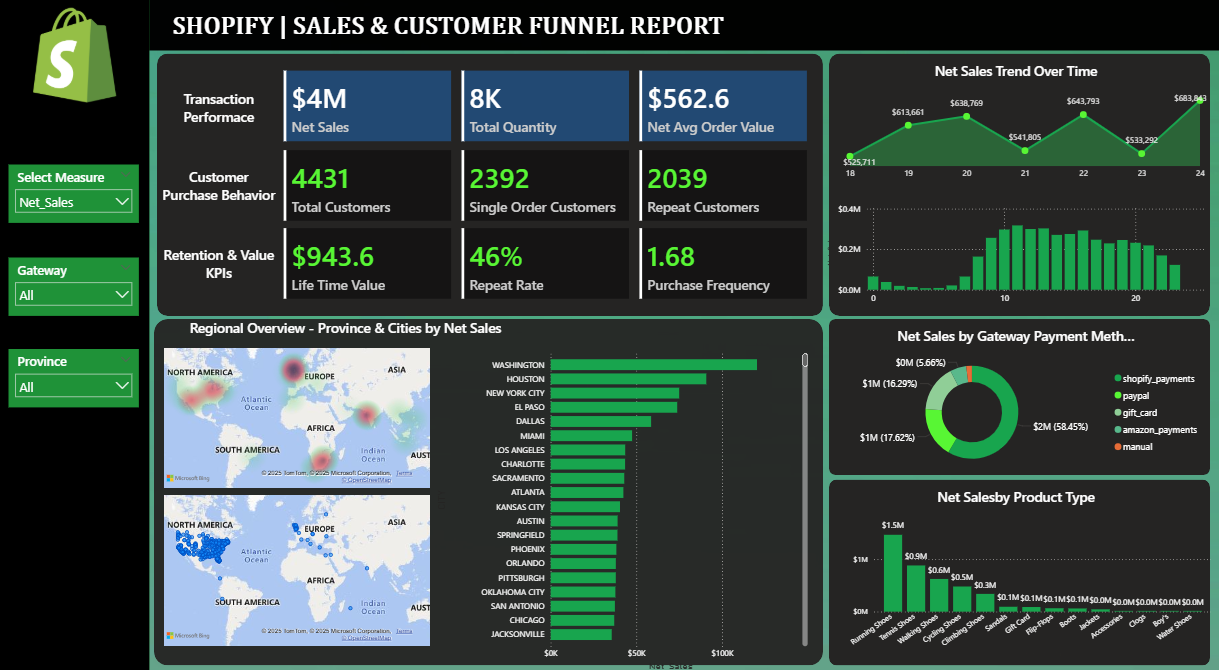

What the dashboard file says about the page in this screenshot:
{"tool":"powerbi","page":{"name":"Shopify_Analysis","canvas":[1800,1000],"ordinal":0},"visuals":[{"type":"shape","box":[1223.9,713.6,561.1,273.9],"z":0},{"type":"shape","box":[1223.9,477.2,561.1,229.8],"z":1000},{"type":"shape","box":[2.2,0,1798.3,81.7],"z":2000},{"type":"shape","box":[229.8,477.2,985.3,510.3],"z":3000},{"type":"shape","box":[234.2,86.2,980.9,386.6],"z":4000},{"type":"shape","box":[2.2,0,220.9,1000.8],"z":5000},{"type":"cardVisual","fields":{"Data":["shopify_sales.Net_Sales","shopify_sales.Total_Quantity","shopify_sales.Net_Avg_Order_Value"]},"box":[416.1,106,782.1,114.9],"z":6000},{"type":"card","fields":{"Values":["shopify_sales.Transaction_Perf"]},"box":[234.9,106,181.2,114.9],"z":7000},{"type":"cardVisual","fields":{"Data":["shopify_sales.Total_Customers","shopify_sales.Single_Order_Customers","shopify_sales.Repeat_Customers"]},"box":[416.1,223.1,782.1,114.9],"z":8000},{"type":"card","fields":{"Values":["shopify_sales.Customer Purchase Behavior"]},"box":[234.9,220.9,181.2,117.1],"z":9000},{"type":"cardVisual","fields":{"Data":["shopify_sales.Life Time Value","shopify_sales.Repeat Rate","shopify_sales.Purchase Frequency"]},"box":[416.1,338,782.1,114.9],"z":10000},{"type":"card","fields":{"Values":["shopify_sales.Retention Value"]},"box":[234.9,335.8,181.2,117.1],"z":11000},{"type":"map","fields":{"Category":["shopify_sales.Billing Address Province"],"Size":["shopify_sales.Net_Sales"]},"box":[238.6,514.7,402.1,216.5],"z":12000},{"type":"slicer","fields":{"Values":["Select Measure.Select Measure"]},"box":[15.5,249.6,192.2,86.2],"z":13000},{"type":"map","fields":{"Category":["shopify_sales.CITY"]},"box":[238.6,730.5,402.1,232],"z":14000},{"type":"clusteredBarChart","fields":{"Category":["shopify_sales.CITY"],"Y":["shopify_sales.Net_Sales"]},"box":[640.7,514.7,556.7,486],"z":15000},{"type":"card","fields":{"Values":["shopify_sales.Map Title"]},"box":[229.8,461,563.3,59.6],"z":16000},{"type":"shape","box":[1223.9,86.2,561.1,386.6],"z":17000},{"type":"textbox","box":[252.6,19.9,877,70.7],"z":18000},{"type":"areaChart","fields":{"Category":["shopify_sales.Invoice Date.Variation.Date Hierarchy.Day"],"Y":["shopify_sales.Net_Sales"]},"box":[1239.4,132.6,545.7,148],"z":19000},{"type":"columnChart","fields":{"Category":["shopify_sales.Hour"],"Y":["shopify_sales.Net_Sales"]},"box":[1215.1,300.4,570,172.3],"z":20000},{"type":"card","fields":{"Values":["shopify_sales.Trend Title"]},"box":[1316.7,86.2,364.5,53],"z":21000},{"type":"donutChart","fields":{"Category":["shopify_sales.Gateway"],"Y":["shopify_sales.Net_Sales"]},"box":[1219.5,521.4,561.1,185.6],"z":22000},{"type":"card","fields":{"Values":["shopify_sales.Gateway Title"]},"box":[1316.7,477.2,364.5,53],"z":23000},{"type":"columnChart","fields":{"Category":["shopify_sales.Product Type"],"Y":["shopify_sales.Net_Sales"]},"box":[1223.9,760,567.8,220.9],"z":24000},{"type":"card","fields":{"Values":["shopify_sales.Product Title"]},"box":[1316.7,713.6,364.5,53],"z":24001},{"type":"slicer","fields":{"Values":["shopify_sales.Gateway"]},"box":[15.5,386.6,192.2,86.2],"z":24002},{"type":"slicer","fields":{"Values":["shopify_sales.Billing Address Province"]},"box":[15.5,521.4,192.2,86.2],"z":24003},{"type":"image","box":[30.9,13.3,163.5,150.2],"z":24004}]}

Visuals, with their boxes in screenshot pixels (x1, y1, x2, y2), scaled from the page's 1800x1000 canvas onto the 1219x670 screenshot:
shape: bbox=[829, 478, 1209, 662]
shape: bbox=[829, 320, 1209, 474]
shape: bbox=[1, 0, 1218, 55]
shape: bbox=[156, 320, 823, 662]
shape: bbox=[159, 58, 823, 317]
shape: bbox=[1, 0, 151, 669]
cardVisual - shopify_sales.Net_Sales x shopify_sales.Total_Quantity: bbox=[282, 71, 811, 148]
card - shopify_sales.Transaction_Perf: bbox=[159, 71, 282, 148]
cardVisual - shopify_sales.Total_Customers x shopify_sales.Single_Order_Customers: bbox=[282, 149, 811, 226]
card - shopify_sales.Customer Purchase Behavior: bbox=[159, 148, 282, 226]
cardVisual - shopify_sales.Life Time Value x shopify_sales.Repeat Rate: bbox=[282, 226, 811, 303]
card - shopify_sales.Retention Value: bbox=[159, 225, 282, 303]
map - shopify_sales.Billing Address Province x shopify_sales.Net_Sales: bbox=[162, 345, 434, 490]
slicer - Select Measure.Select Measure: bbox=[10, 167, 141, 225]
map - shopify_sales.CITY: bbox=[162, 489, 434, 645]
clusteredBarChart - shopify_sales.CITY x shopify_sales.Net_Sales: bbox=[434, 345, 811, 669]
card - shopify_sales.Map Title: bbox=[156, 309, 537, 349]
shape: bbox=[829, 58, 1209, 317]
textbox: bbox=[171, 13, 765, 61]
areaChart - shopify_sales.Invoice Date.Variation.Date Hierarchy.Day x shopify_sales.Net_Sales: bbox=[839, 89, 1209, 188]
columnChart - shopify_sales.Hour x shopify_sales.Net_Sales: bbox=[823, 201, 1209, 317]
card - shopify_sales.Trend Title: bbox=[892, 58, 1139, 93]
donutChart - shopify_sales.Gateway x shopify_sales.Net_Sales: bbox=[826, 349, 1206, 474]
card - shopify_sales.Gateway Title: bbox=[892, 320, 1139, 355]
columnChart - shopify_sales.Product Type x shopify_sales.Net_Sales: bbox=[829, 509, 1213, 657]
card - shopify_sales.Product Title: bbox=[892, 478, 1139, 514]
slicer - shopify_sales.Gateway: bbox=[10, 259, 141, 317]
slicer - shopify_sales.Billing Address Province: bbox=[10, 349, 141, 407]
image: bbox=[21, 9, 132, 110]
